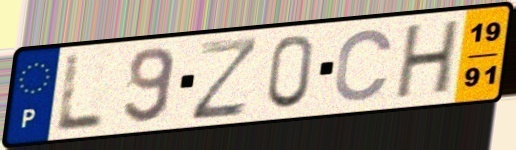0: (265, 33, 317, 111)
9: (121, 45, 177, 126)
C: (331, 26, 397, 105)
H: (391, 16, 464, 103)
L: (52, 51, 107, 135)
Z: (188, 33, 264, 123)
